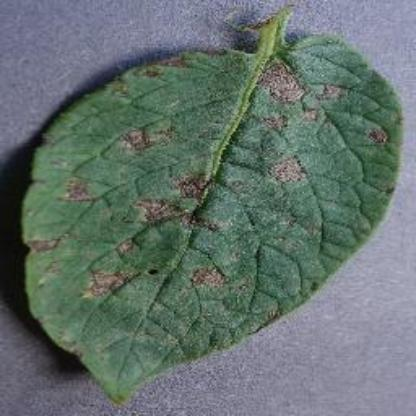Early-Blight: (16, 9, 406, 404)
